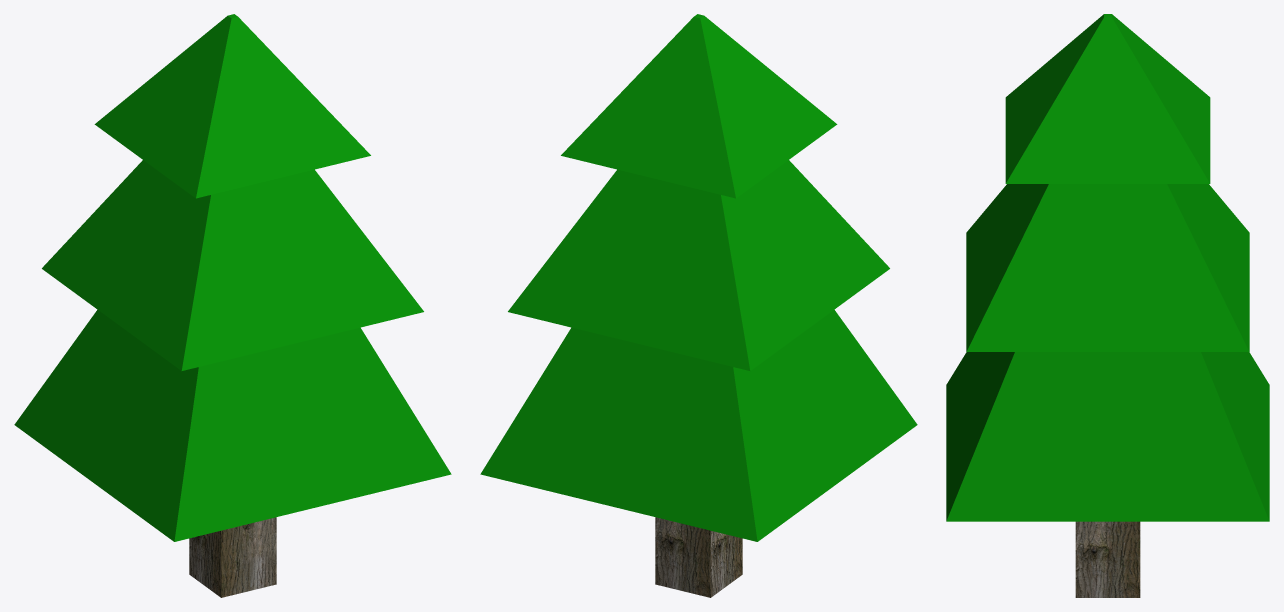
File: Pino.fbx
The picture shows the model from 3 angles, left to right: view 1: azimuth 30°, elevation 25°; view 2: azimuth 150°, elevation 25°; view 3: azimuth 270°, elevation 25°; orthographic projection.
Visible parts, largest first — view 1: Cube, Cube.003; view 2: Cube, Cube.003; view 3: Cube, Cube.003.
Boxes of the visible parts, left/top/right/bottom form: Cube: left=14, top=14, right=451, bottom=541; Cube.003: left=189, top=517, right=276, bottom=597; Cube: left=480, top=14, right=917, bottom=541; Cube.003: left=655, top=517, right=742, bottom=597; Cube: left=946, top=14, right=1269, bottom=521; Cube.003: left=1075, top=521, right=1140, bottom=597.
Bounding box in the file's own units: 200 × 388 × 200.
